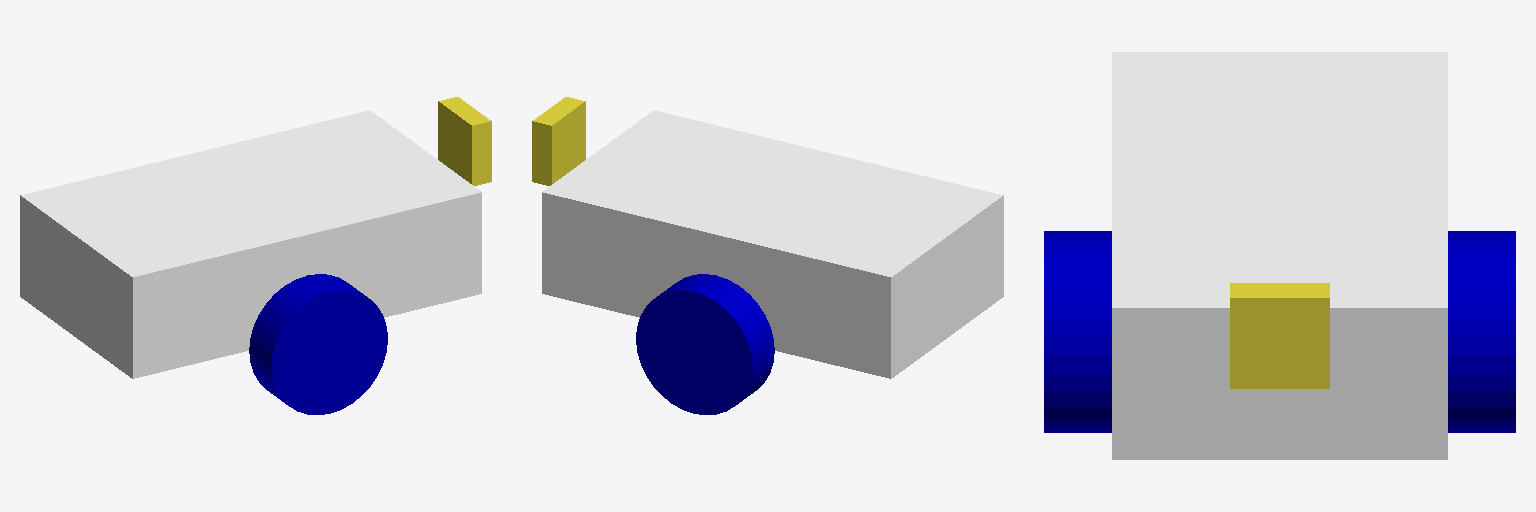
robot.urdf — gpg3:
<?xml version="1.0"?>
<robot name="gpg3">

  <material name="blue">
    <color rgba="0 0 .8 1"/>
  </material>

  <material name="white">
    <color rgba="1 1 1 1"/>
  </material>

  <link name="base_link">
    <visual>
      <geometry>
        <box size="0.18 0.10 0.05"/>
      </geometry>
      <material name="white"/>
    </visual>
  </link>

  <link name="left_wheel_link">
    <visual>
      <origin rpy="1.57075 0 0"/>
      <geometry>
        <cylinder length="0.02" radius="0.03"/>
      </geometry>
      <material name="blue"/>
    </visual>
  </link>

  <joint name="left_wheel" type="continuous">
    <parent link="base_link"/>
    <child link="left_wheel_link"/>
    <origin xyz="0 0.06 -0.025"/>
    <axis xyz="0 1 0"/>
  </joint>

  <link name="right_wheel_link">
    <visual>
      <origin rpy="1.57075 0 0"/>
      <geometry>
        <cylinder length="0.02" radius="0.03"/>
      </geometry>
      <material name="blue"/>
    </visual>
  </link>

  <joint name="right_wheel" type="continuous">
    <parent link="base_link"/>
    <child link="right_wheel_link"/>
    <origin xyz="0 -0.06 -0.025"/>
    <axis xyz="0 1 0"/>
  </joint>

  <link name="camera_link">
    <visual>
      <geometry>
        <box size="0.03 0.03 0.01"/>
      </geometry>
    </visual>
  </link>

  <joint name="servo" type="revolute">
    <axis xyz="0 -1 0"/>
    <limit effort="1000.0" lower="-1" upper="1" velocity="0.5"/>
    <parent link="base_link"/>
    <child link="camera_link"/>
    <origin rpy="-1.57075 0 -1.57075" xyz="0.11 0 0.025"/>
  </joint>

</robot>

--- Render facts (derived) ---
Views: 3 orthographic renders of the robot side by side, from view 1: azimuth 30°, elevation 25°; view 2: azimuth 150°, elevation 25°; view 3: azimuth 270°, elevation 25°.
Model gpg3 with 4 links and 3 joints (1 revolute, 2 continuous), rooted at base_link, posed all joints at 0.
Links seen in each view (by area): view 1: base_link, right_wheel_link, camera_link; view 2: base_link, left_wheel_link, camera_link; view 3: base_link, left_wheel_link, right_wheel_link, camera_link.
Boxes of the visible links, x1,y1,x2,y2 form: base_link: (20, 110, 481, 378); right_wheel_link: (249, 274, 387, 414); camera_link: (438, 97, 491, 185); base_link: (542, 110, 1003, 378); left_wheel_link: (636, 274, 774, 414); camera_link: (532, 97, 585, 185); base_link: (1112, 52, 1447, 459); left_wheel_link: (1448, 231, 1515, 432); right_wheel_link: (1044, 231, 1111, 432); camera_link: (1230, 283, 1329, 388).
Size in the robot's own frame: 0.205 by 0.14 by 0.095 metres.
Geometry: primitives only (box / cylinder / sphere), no mesh files.